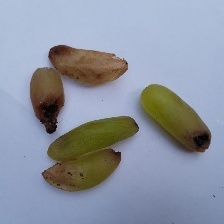grapes: (33, 32, 189, 202)
